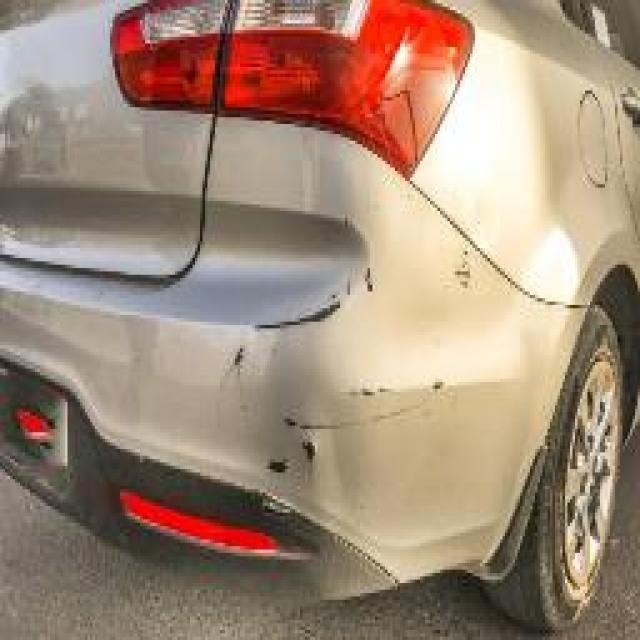Bumper: (215, 121, 550, 590)
